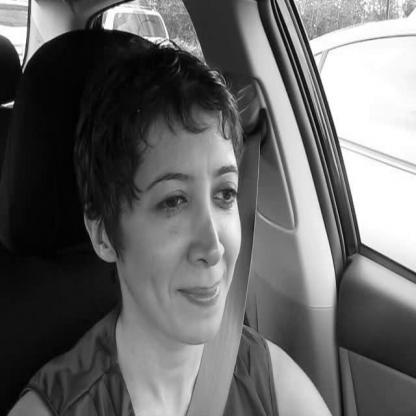seatbelt: (64, 33, 254, 416)
